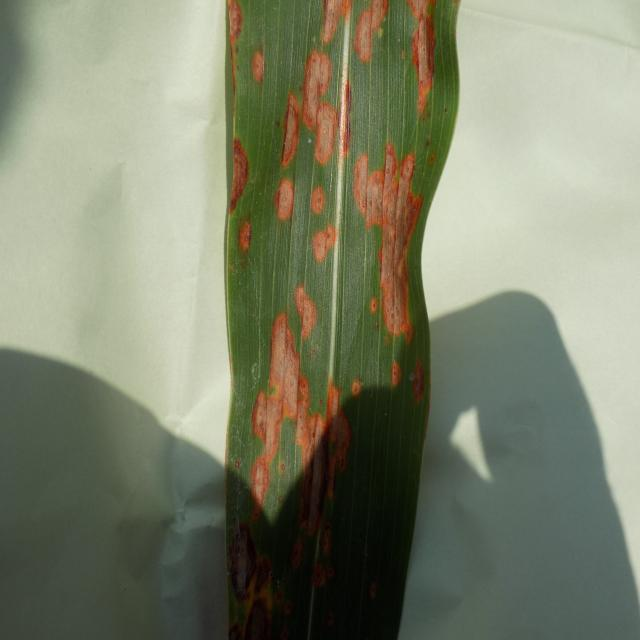millet_rust: (221, 2, 459, 640)
